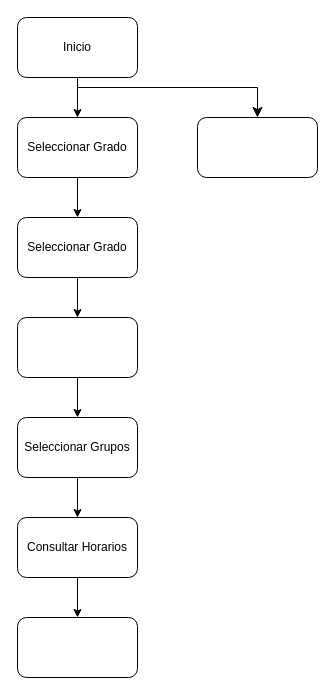
Image size: 335x695. Some labels were removed from this diagram. Here are the shapes that lost their labels. From the top down, the centre of each, then its label:
the point at 257,147: Registro
the point at 77,347: Seleccionar Asignaturas
the point at 77,647: Descargar Horario
